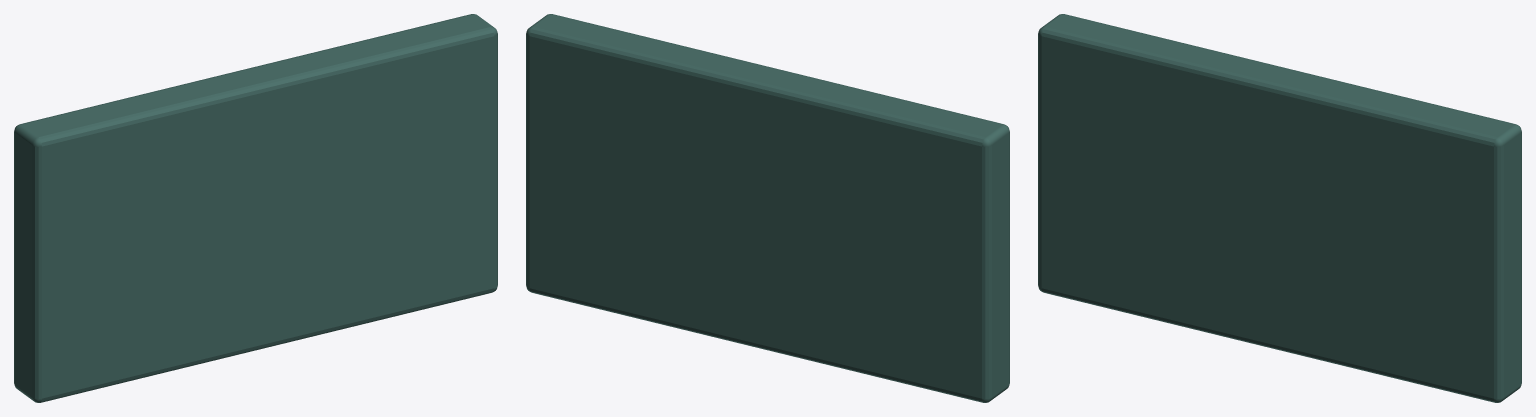
Rendered from launcherStop.glb.
3 views of the same model, side by side, from view 1: azimuth 30°, elevation 25°; view 2: azimuth 150°, elevation 25°; view 3: azimuth 330°, elevation 25° (orthographic).
Parts seen in each view (by area): view 1: launcherStop; view 2: launcherStop; view 3: launcherStop.
Boxes of the visible parts, <box> form: launcherStop: <box>14,14,497,402</box>; launcherStop: <box>526,14,1009,402</box>; launcherStop: <box>1038,14,1521,402</box>.
Bounding box in the file's own units: 0.022 × 0.012 × 0.002.
